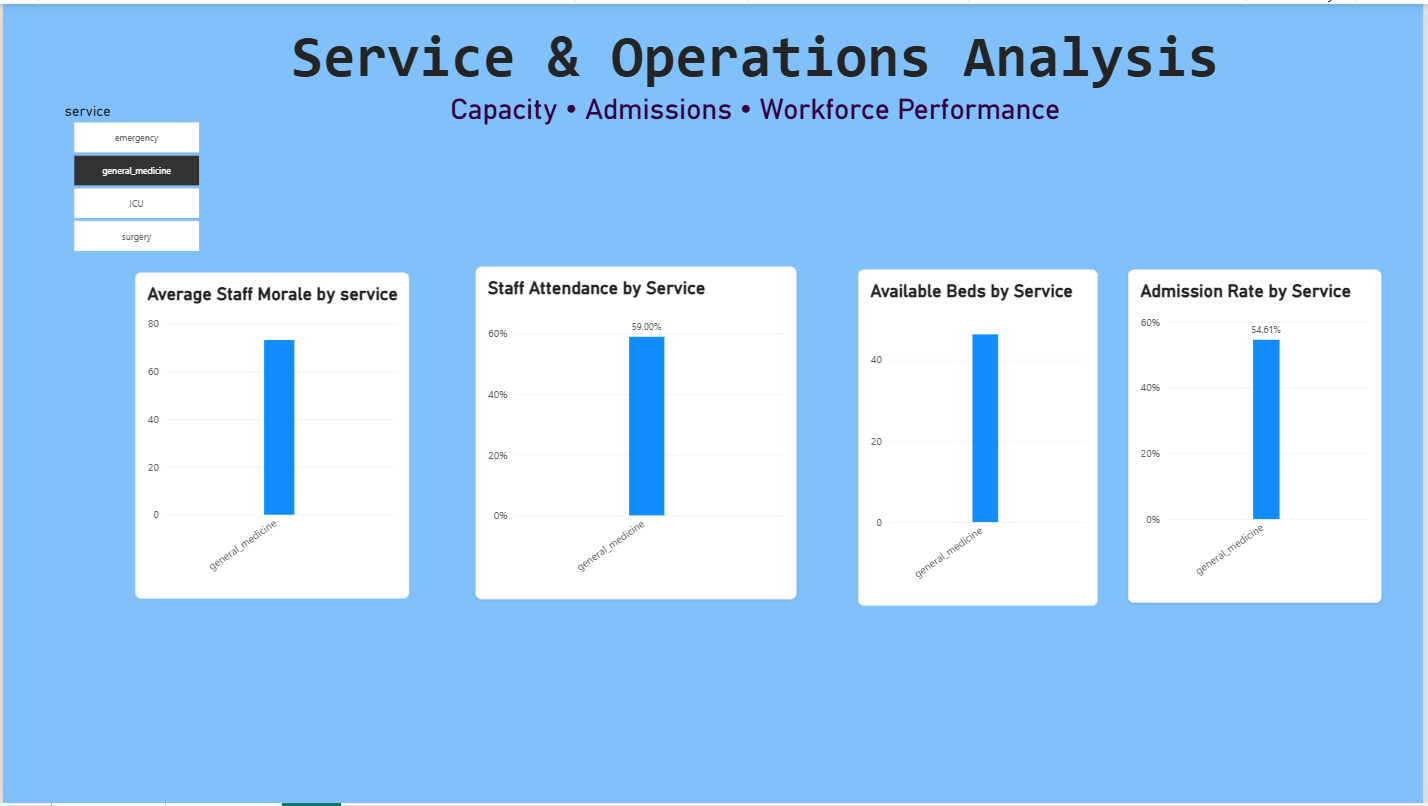

What the dashboard file says about the page in this screenshot:
{"tool":"powerbi","page":{"name":"Page 2","canvas":[1920,1080],"ordinal":1},"visuals":[{"type":"clusteredColumnChart","title":"Staff Attendance by Service","fields":{"Category":["Dim_Service.service"],"Y":["Dim_Service.Staff Attendance Rate"]},"box":[638.2,354.3,433.8,449.7],"z":0},{"type":"clusteredColumnChart","fields":{"Category":["Dim_Service.service"],"Y":["Dim_Service.Average Staff Morale"]},"box":[179.4,363.4,370.8,440.7],"z":1000},{"type":"clusteredColumnChart","title":"Available Beds by Service","fields":{"Category":["Dim_Service.service"],"Y":["Dim_Service.Average Available Beds"]},"box":[1156.1,358.9,324.1,454.7],"z":2000},{"type":"slicer","fields":{"Values":["Dim_Service.service"]},"box":[75,134,209,202.1],"z":3000},{"type":"clusteredColumnChart","title":"Admission Rate by Service","fields":{"Category":["Dim_Service.service"],"Y":["Dim_Service.Admission Rate"]},"box":[1520.5,359.1,343,450.7],"z":4000},{"type":"textbox","title":"Service & Operations Analysis","box":[340.5,23.3,1352.6,139.9],"z":5000}]}

Visuals, with their boxes in screenshot pixels (x1, y1, x2, y2), scaled from the page's 1920x1080 canvas onto the 1428x806 screenshot:
"Staff Attendance by Service" clusteredColumnChart: BBox(475, 264, 797, 600)
clusteredColumnChart - Dim_Service.service x Dim_Service.Average Staff Morale: BBox(133, 271, 409, 600)
"Available Beds by Service" clusteredColumnChart: BBox(860, 268, 1101, 607)
slicer - Dim_Service.service: BBox(56, 100, 211, 251)
"Admission Rate by Service" clusteredColumnChart: BBox(1131, 268, 1386, 604)
"Service & Operations Analysis" textbox: BBox(253, 17, 1259, 122)
